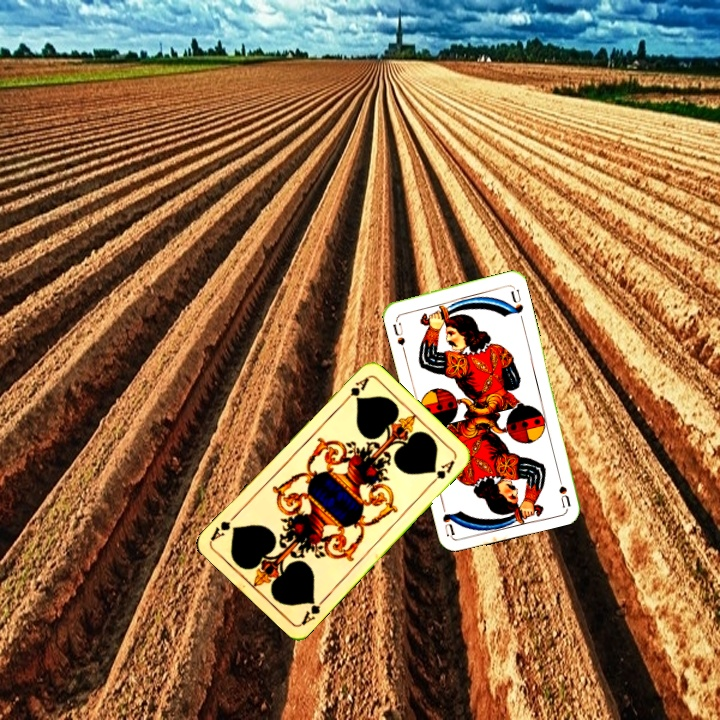GA: (297, 593, 329, 628), (338, 373, 371, 406)
SU: (389, 314, 408, 355), (554, 468, 573, 509)
